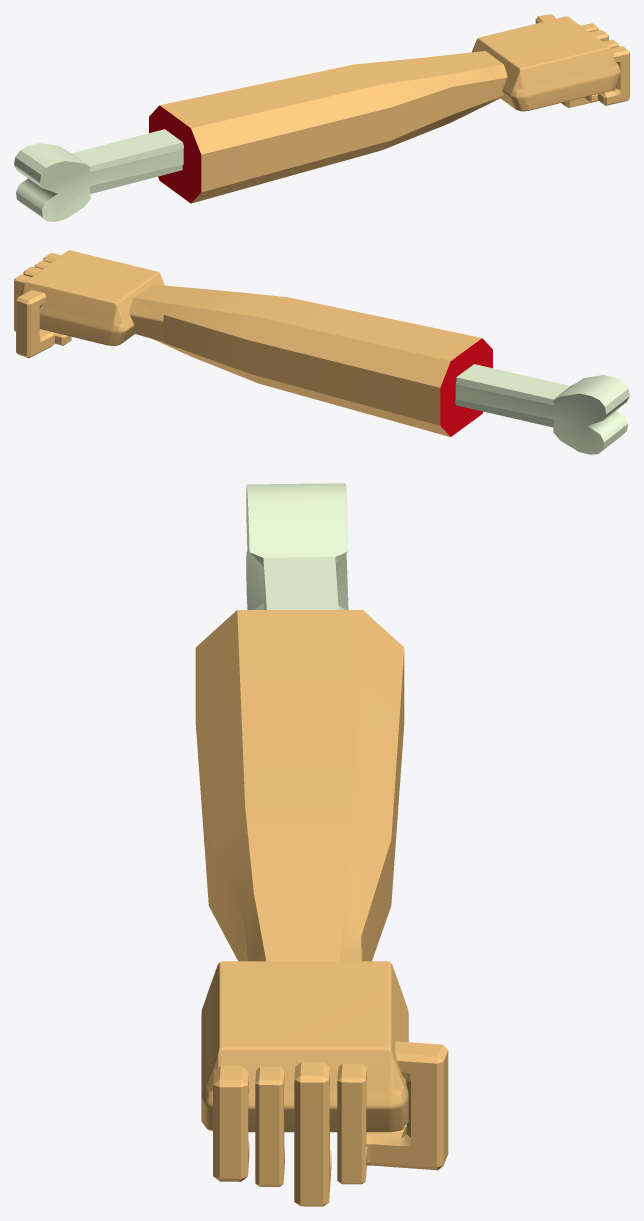
The model's file is Hand color.fbx.
The picture shows the model from 3 angles, top to bottom: view 1: azimuth 30°, elevation 25°; view 2: azimuth 150°, elevation 25°; view 3: azimuth 270°, elevation 25°; orthographic projection. The views are drawn at different scales.
Visible parts, largest first — view 1: group19_pasted__pCube4, group19_pasted__pCube4.001, group19_pasted__pCube4.002; view 2: group19_pasted__pCube4, group19_pasted__pCube4.001, group19_pasted__pCube4.002; view 3: group19_pasted__pCube4, group19_pasted__pCube4.001.
Part boxes in pixels (x1=…): group19_pasted__pCube4: x1=160, y1=14, x2=629, y2=203; group19_pasted__pCube4.001: x1=14, y1=129, x2=183, y2=221; group19_pasted__pCube4.002: x1=149, y1=105, x2=201, y2=203; group19_pasted__pCube4: x1=14, y1=250, x2=481, y2=436; group19_pasted__pCube4.001: x1=455, y1=364, x2=629, y2=454; group19_pasted__pCube4.002: x1=440, y1=338, x2=492, y2=436; group19_pasted__pCube4: x1=195, y1=610, x2=448, y2=1206; group19_pasted__pCube4.001: x1=246, y1=483, x2=348, y2=609.
Size of the model in its own units: 7.9 by 1.14 by 1.48.
